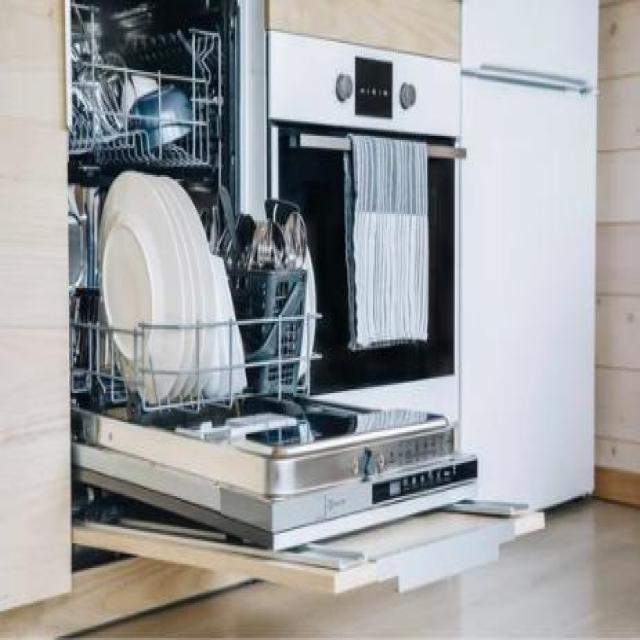dishwasher: (61, 2, 547, 617)
